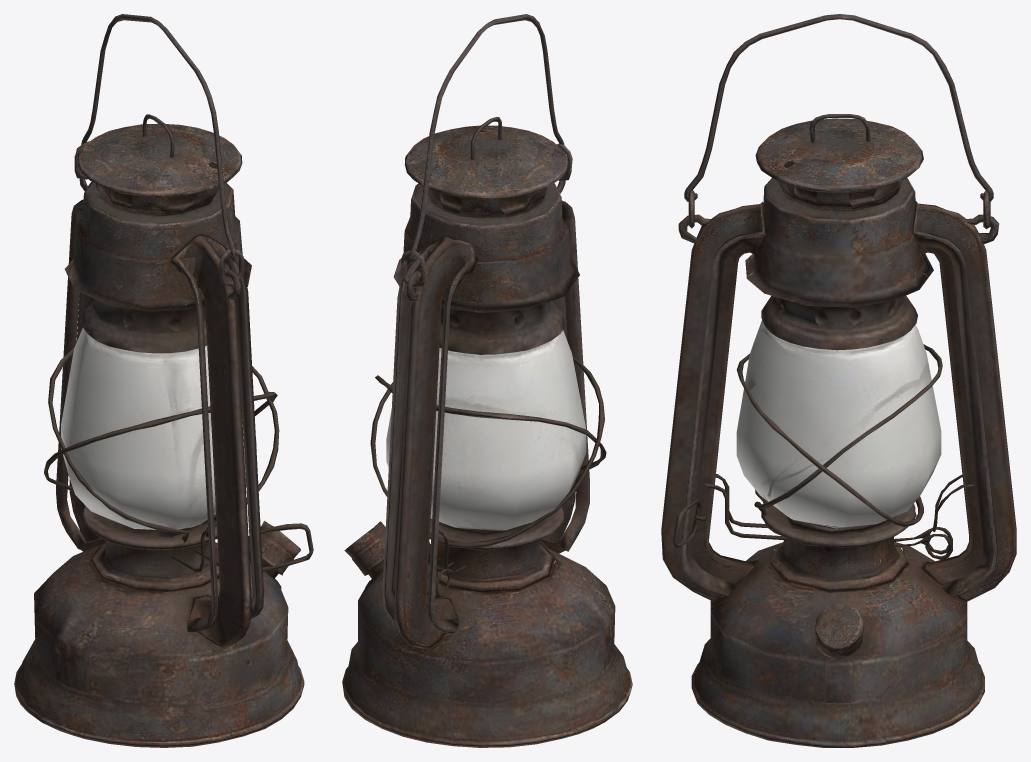
The model's file is lantern.glb.
3 views of the same model, side by side, from view 1: azimuth 30°, elevation 25°; view 2: azimuth 150°, elevation 25°; view 3: azimuth 270°, elevation 25° (orthographic).
Visible parts, largest first — view 1: tripo_node_ee08d67f-1a37-44de-b1d0-8de8d52aab75; view 2: tripo_node_ee08d67f-1a37-44de-b1d0-8de8d52aab75; view 3: tripo_node_ee08d67f-1a37-44de-b1d0-8de8d52aab75.
Part boxes in pixels (box(x1,y1,x2,y2)): tripo_node_ee08d67f-1a37-44de-b1d0-8de8d52aab75: box(14, 14, 313, 747); tripo_node_ee08d67f-1a37-44de-b1d0-8de8d52aab75: box(342, 14, 632, 747); tripo_node_ee08d67f-1a37-44de-b1d0-8de8d52aab75: box(661, 14, 1016, 747).
Bounding box in the file's own units: 0.4121 × 0.998 × 0.4785.
1 material, 1 textured.
